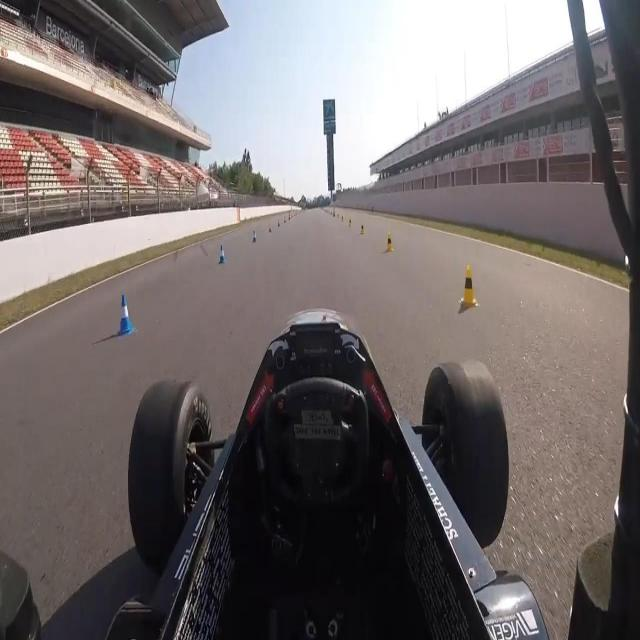blue_cone: (117, 290, 135, 336), (218, 244, 226, 264), (252, 230, 256, 242), (268, 222, 272, 233)
yellow_cone: (460, 265, 478, 306), (385, 232, 394, 252), (360, 222, 365, 235), (348, 217, 352, 227)
